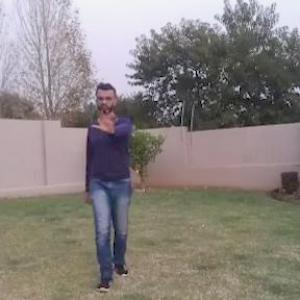follow_hand: (89, 104, 121, 134)
